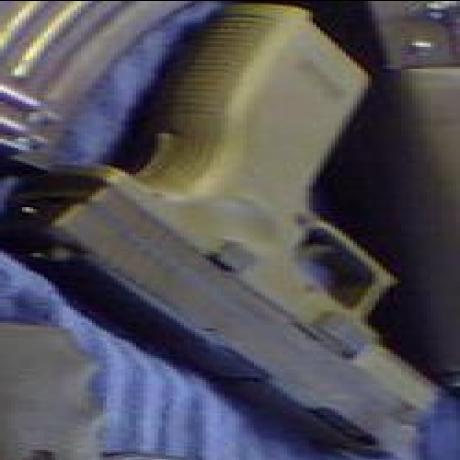weapon: (11, 5, 460, 460)
